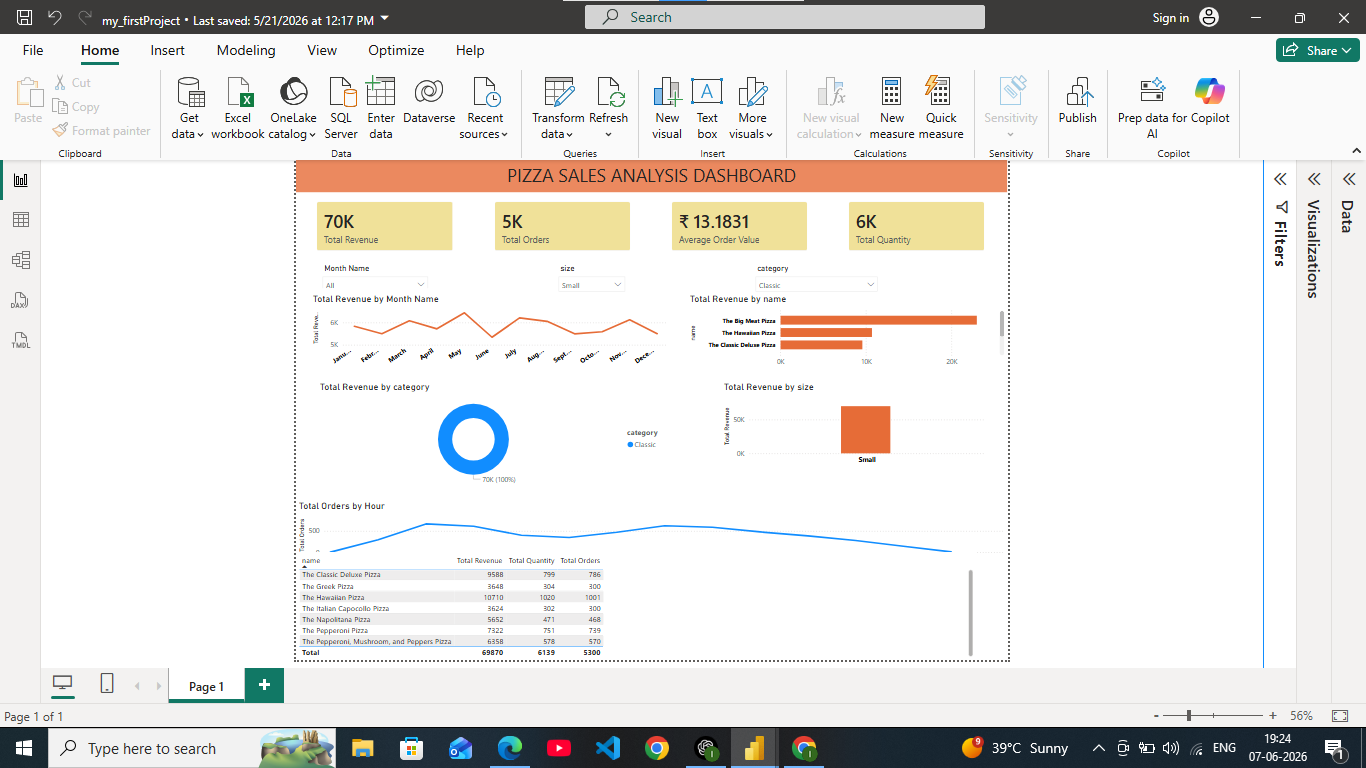

Layout of this report page (visuals, bound fields, positions):
{"tool":"powerbi","page":{"name":"Page 1","canvas":[1280,900],"ordinal":0},"visuals":[{"type":"cardVisual","fields":{"Data":["order_details.Total Revenue"]},"box":[20.2,57.6,280.8,123.8],"z":0},{"type":"cardVisual","fields":{"Data":["order_details.Total Orders"]},"box":[340.3,57.6,279.4,123.8],"z":1000},{"type":"cardVisual","fields":{"Data":["order_details.Average Order Value"]},"box":[659,57.6,279.4,123.8],"z":2000},{"type":"cardVisual","fields":{"Data":["order_details.Total Quantity"]},"box":[977.8,57.6,279.4,123.8],"z":3000},{"type":"lineChart","fields":{"Category":["orders.Month Name"],"Y":["order_details.Total Revenue"]},"box":[25.2,239.4,649.8,140.4],"z":4000},{"type":"clusteredBarChart","fields":{"Category":["pizza_types.name"],"Y":["order_details.Total Revenue"]},"box":[704.2,239,576,141.1],"z":5000},{"type":"donutChart","fields":{"Category":["pizza_types.category"],"Y":["order_details.Total Revenue"]},"box":[37.8,397.8,637.2,190.8],"z":6000},{"type":"clusteredColumnChart","fields":{"Category":["pizzas.size"],"Y":["order_details.Total Revenue"]},"box":[765,397.8,478.8,160.2],"z":7000},{"type":"lineChart","fields":{"Category":["orders.Hour"],"Y":["order_details.Total Orders"]},"box":[0,612,1280.2,108],"z":8000},{"type":"slicer","fields":{"Values":["orders.Month Name"]},"box":[37.4,181.4,210.2,49],"z":9000},{"type":"slicer","fields":{"Values":["pizza_types.category"]},"box":[817.9,181.4,240.5,56.2],"z":10000},{"type":"slicer","fields":{"Values":["pizzas.size"]},"box":[463,181.4,139.7,57.6],"z":11000},{"type":"tableEx","fields":{"Values":["pizza_types.name","order_details.Total Revenue","order_details.Total Quantity","order_details.Total Orders"]},"box":[19.2,760.8,1224,194.4],"z":12000},{"type":"textbox","box":[0,0,1279.8,57.6],"z":13000}]}

Visuals, with their boxes on the page's 1280x900 design canvas (x1, y1, x2, y2). These are canvas units, not pixel positions in the 1366x768 screenshot, which may show the page scaled, cropped or inside an application window:
cardVisual - order_details.Total Revenue: l=20, t=58, r=301, b=181
cardVisual - order_details.Total Orders: l=340, t=58, r=620, b=181
cardVisual - order_details.Average Order Value: l=659, t=58, r=938, b=181
cardVisual - order_details.Total Quantity: l=978, t=58, r=1257, b=181
lineChart - orders.Month Name x order_details.Total Revenue: l=25, t=239, r=675, b=380
clusteredBarChart - pizza_types.name x order_details.Total Revenue: l=704, t=239, r=1280, b=380
donutChart - pizza_types.category x order_details.Total Revenue: l=38, t=398, r=675, b=589
clusteredColumnChart - pizzas.size x order_details.Total Revenue: l=765, t=398, r=1244, b=558
lineChart - orders.Hour x order_details.Total Orders: l=0, t=612, r=1280, b=720
slicer - orders.Month Name: l=37, t=181, r=248, b=230
slicer - pizza_types.category: l=818, t=181, r=1058, b=238
slicer - pizzas.size: l=463, t=181, r=603, b=239
tableEx - pizza_types.name x order_details.Total Revenue: l=19, t=761, r=1243, b=955
textbox: l=0, t=0, r=1280, b=58
